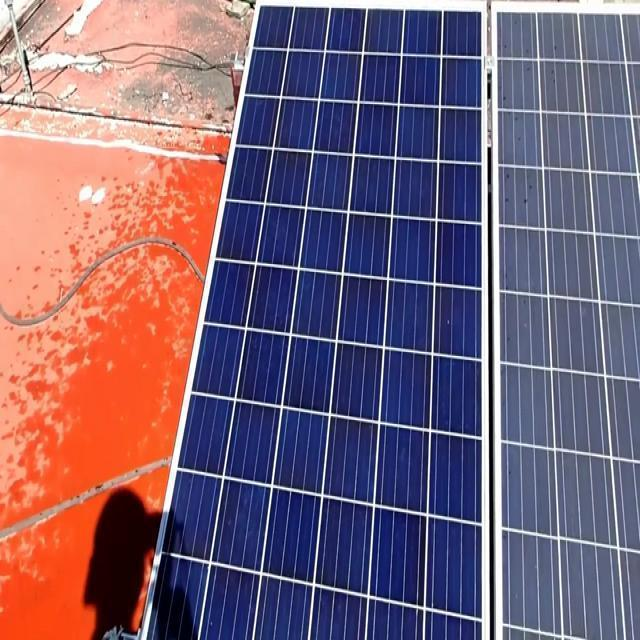Normal Solar Panel: (145, 7, 484, 640)
